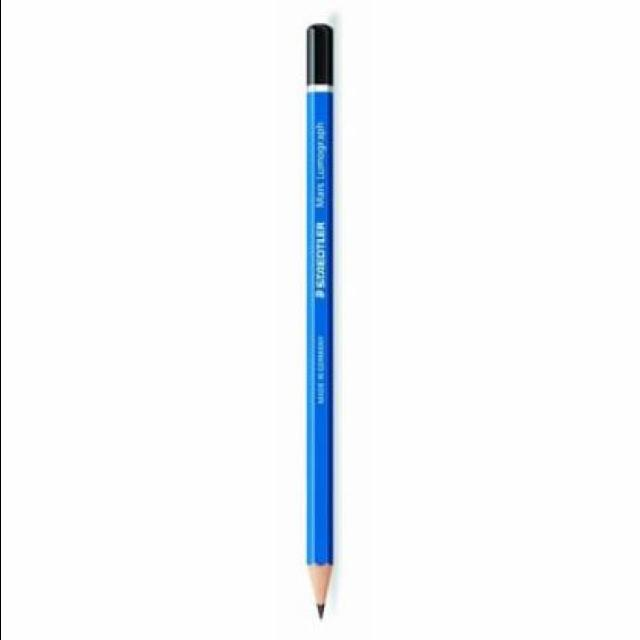pencil: (298, 550, 336, 627)
